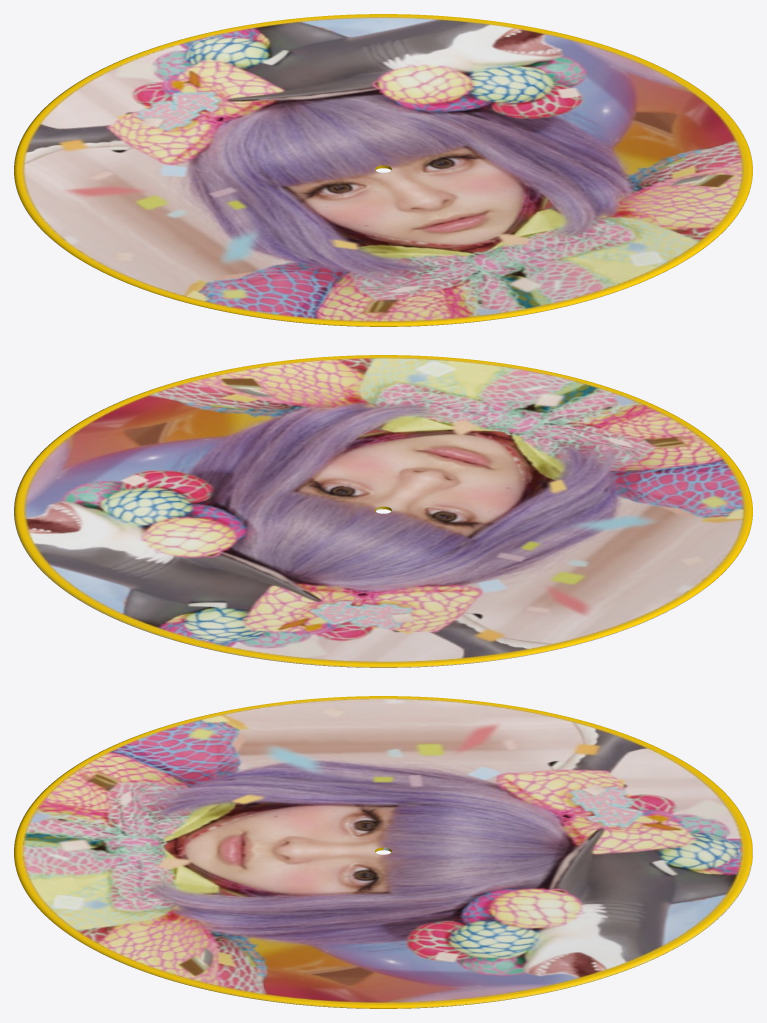
Rendered from vinyl_12_heavy.dae.
The picture shows the model from 3 angles, top to bottom: view 1: azimuth 30°, elevation 25°; view 2: azimuth 150°, elevation 25°; view 3: azimuth 270°, elevation 25°; orthographic projection.
Parts seen in each view (by area): view 1: vinyl; view 2: vinyl; view 3: vinyl.
Boxes of the visible parts, box(x1,y1,x2,y2) form: vinyl: box(14, 14, 752, 326); vinyl: box(14, 355, 752, 667); vinyl: box(14, 696, 752, 1008).
Bounding box in the file's own units: 30.3 × 0.1662 × 30.3.
Materials: 1 (1 with a texture image).
